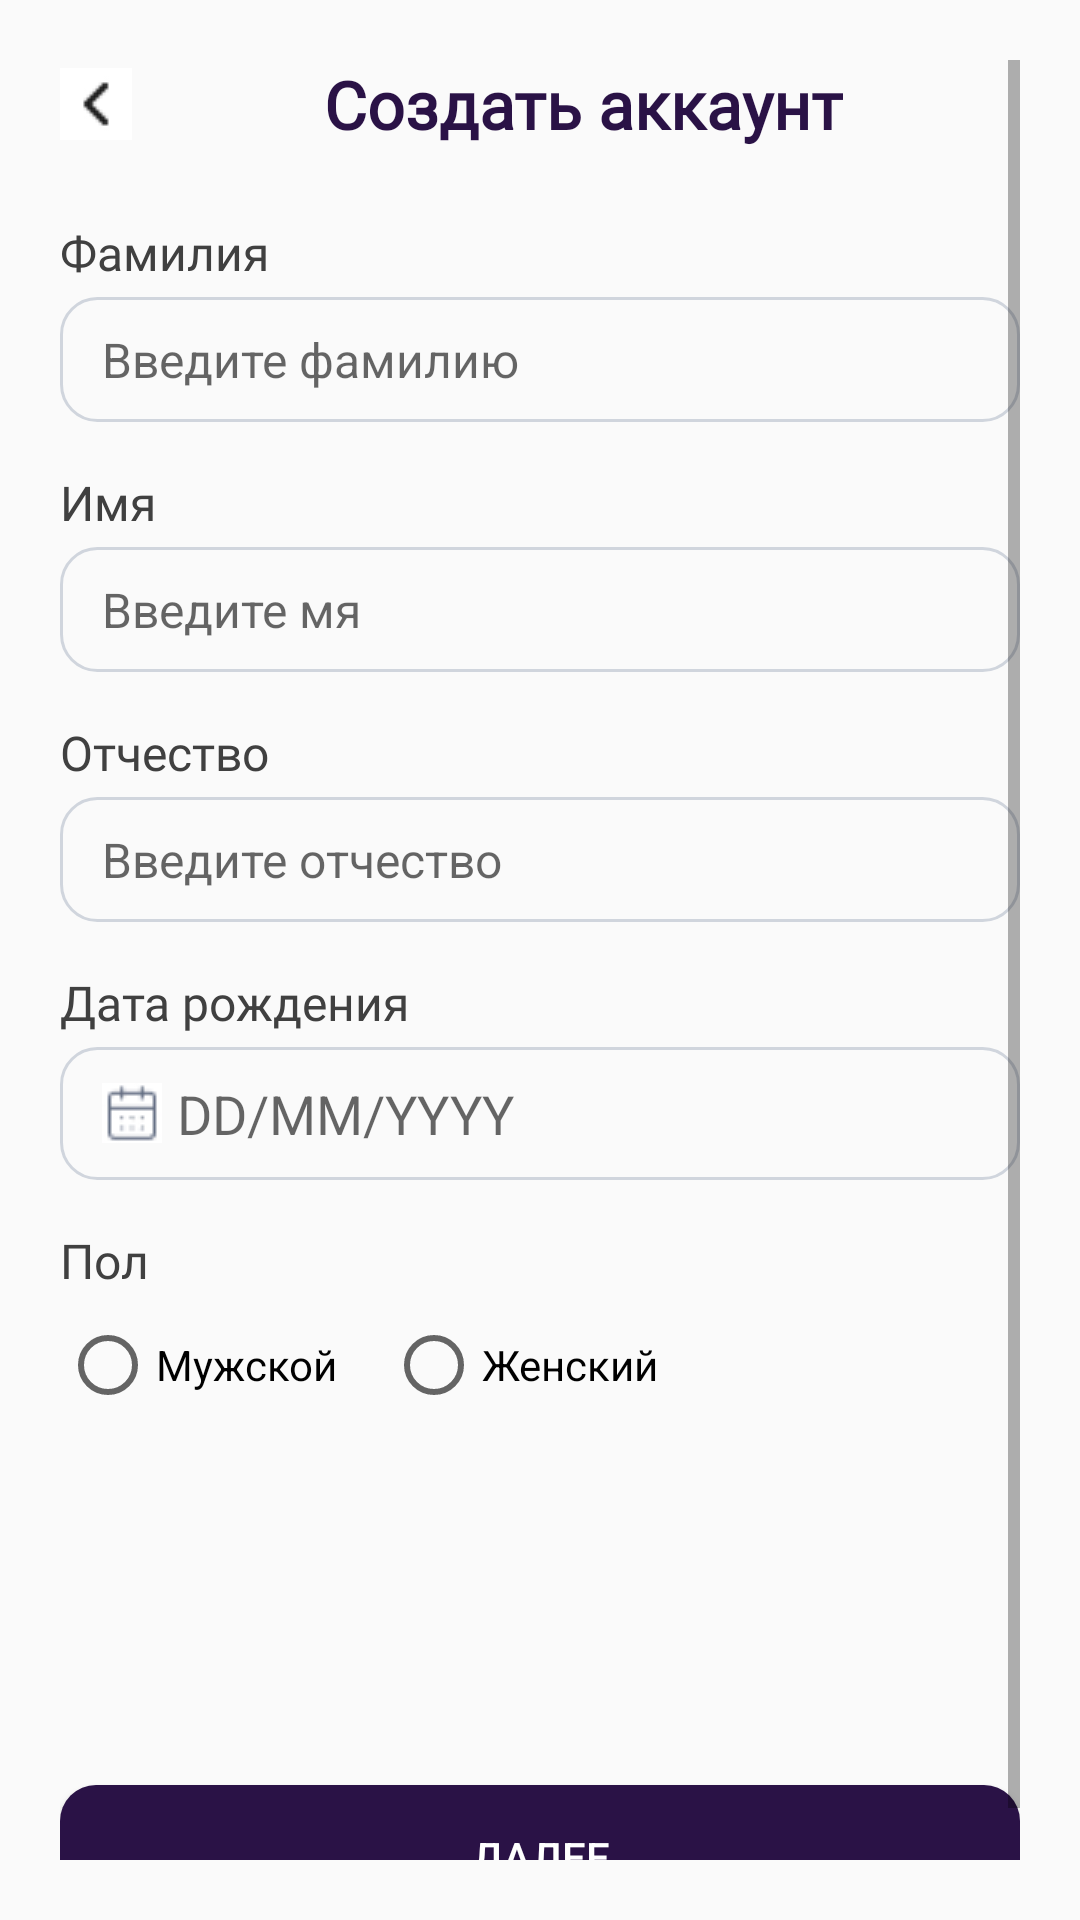

Named icons in this screenshot (1080px×1920px) and their centers, (x,y):
Календарь: (132,1113)
Назад: (96,104)
